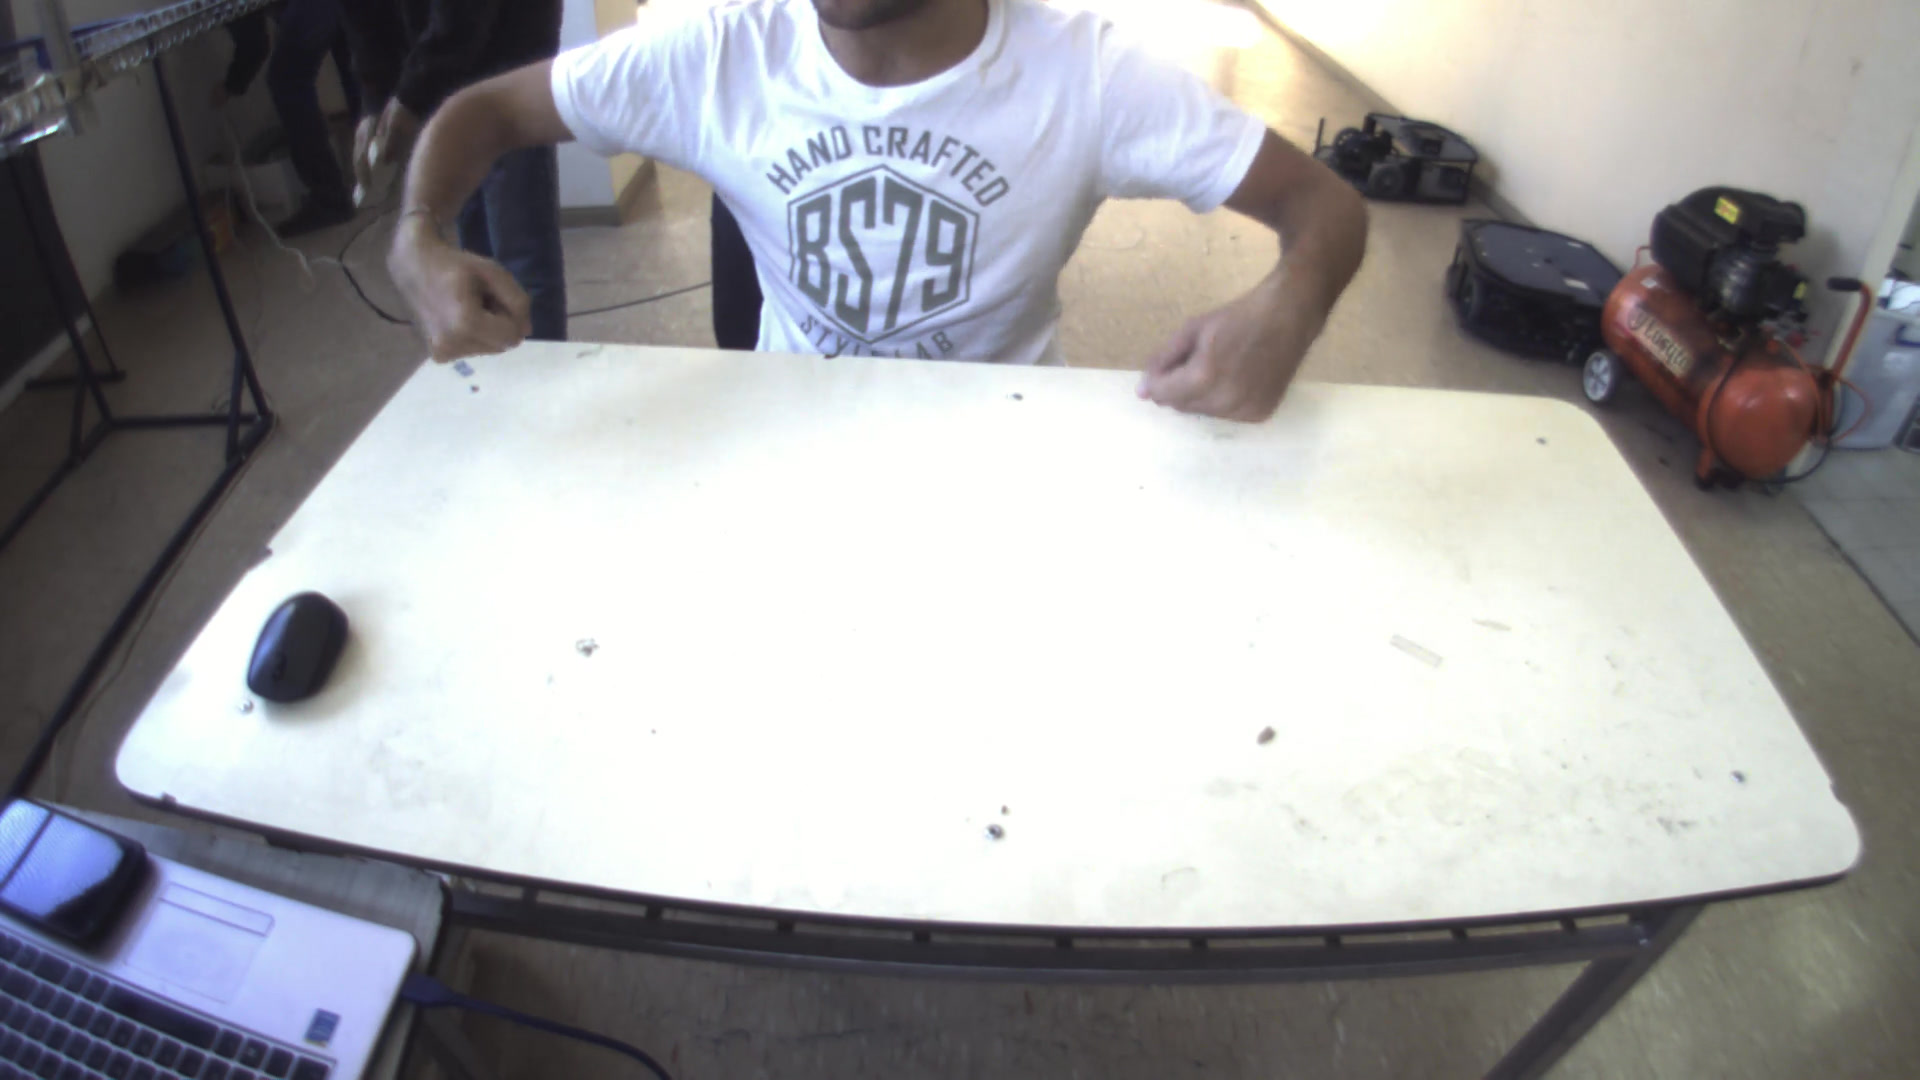hand: (1121, 290, 1338, 448), (380, 208, 531, 363)
